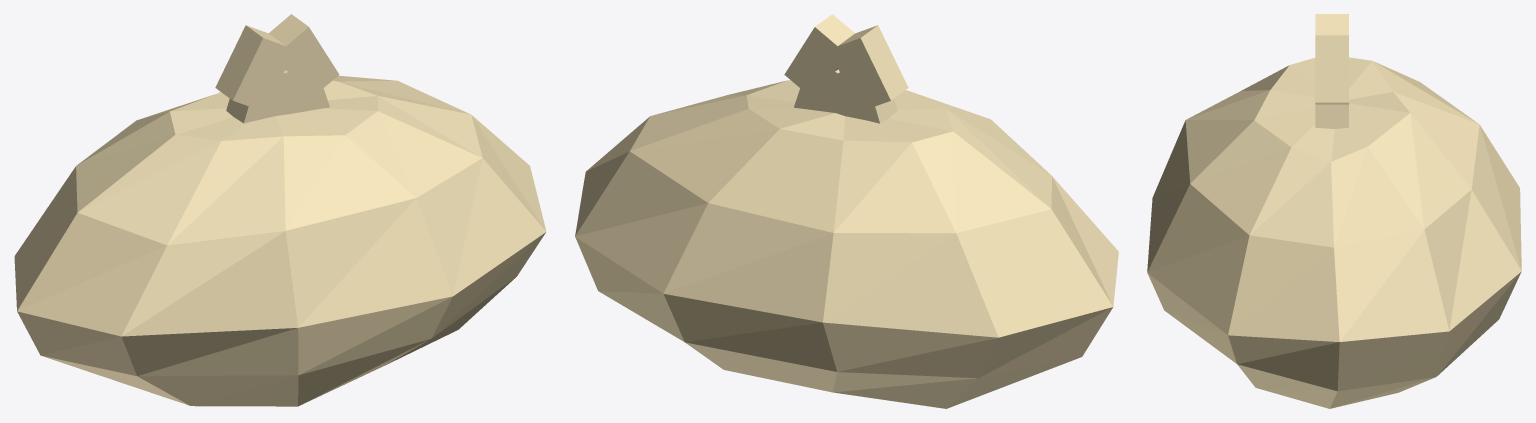
The model's file is food_dumpling.glb.
3 renders of one model, left to right at view 1: azimuth 30°, elevation 25°; view 2: azimuth 150°, elevation 25°; view 3: azimuth 270°, elevation 25°, orthographic. The views are drawn at different scales.
Parts seen in each view (by area): view 1: food_dumpling; view 2: food_dumpling; view 3: food_dumpling.
Boxes of the visible parts, box(x1,y1,x2,y2) form: food_dumpling: box(14, 14, 546, 406); food_dumpling: box(575, 14, 1118, 408); food_dumpling: box(1147, 14, 1521, 408).
Bounding box in the file's own units: 0.0854 × 0.051 × 0.0554.
